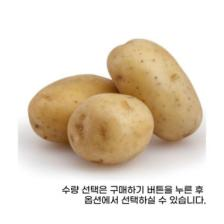Potato: (106, 37, 202, 145), (27, 72, 123, 148), (68, 92, 155, 167)
